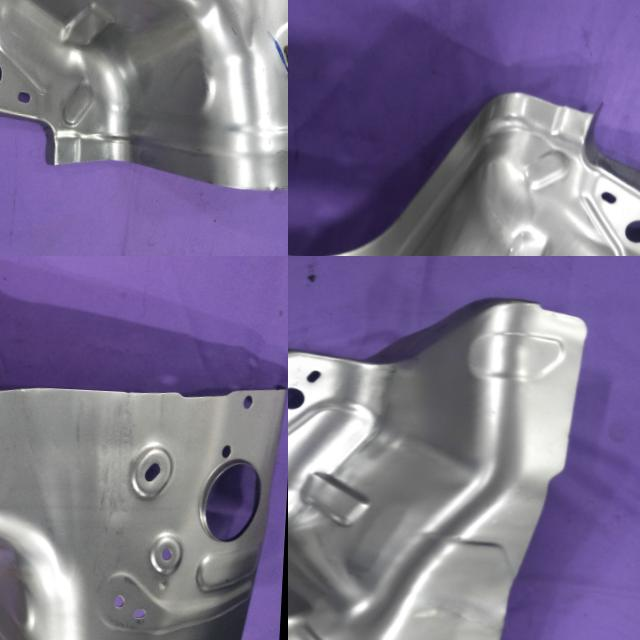Defect: (0, 256, 288, 640)
Healthy: (288, 68, 640, 256), (0, 0, 288, 199)
